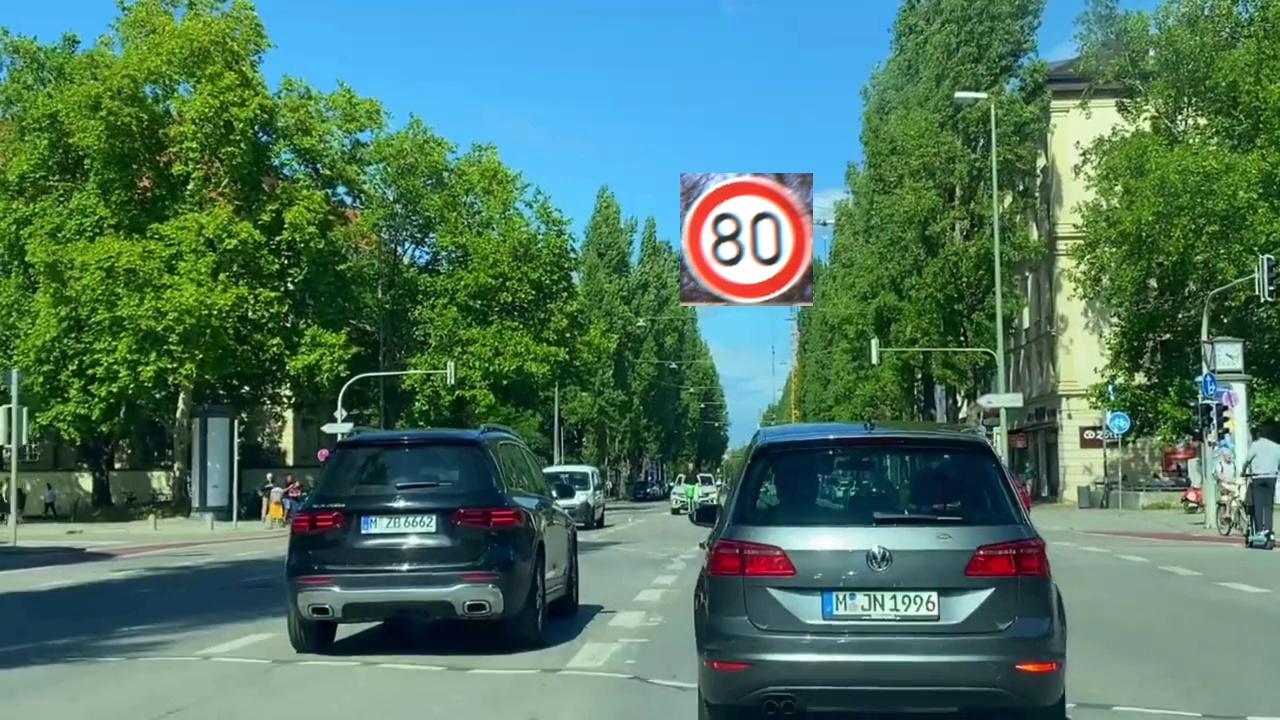Speed 80: (680, 173, 813, 306)
